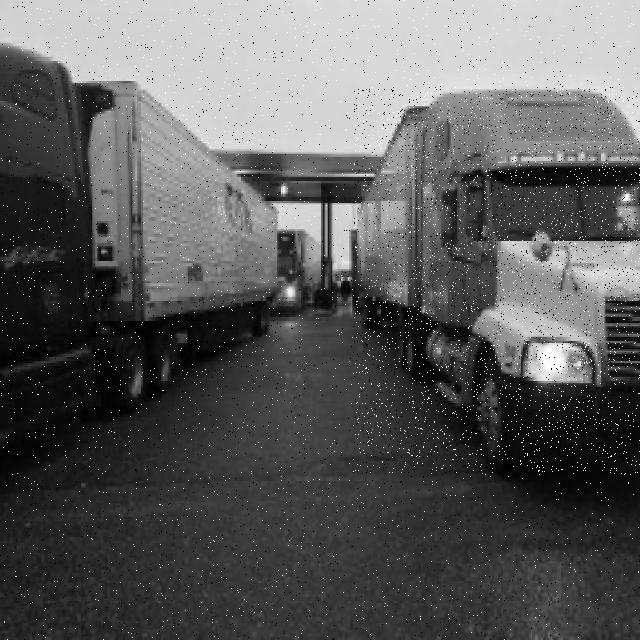Box Truck: (0, 43, 281, 449), (353, 89, 640, 474)
